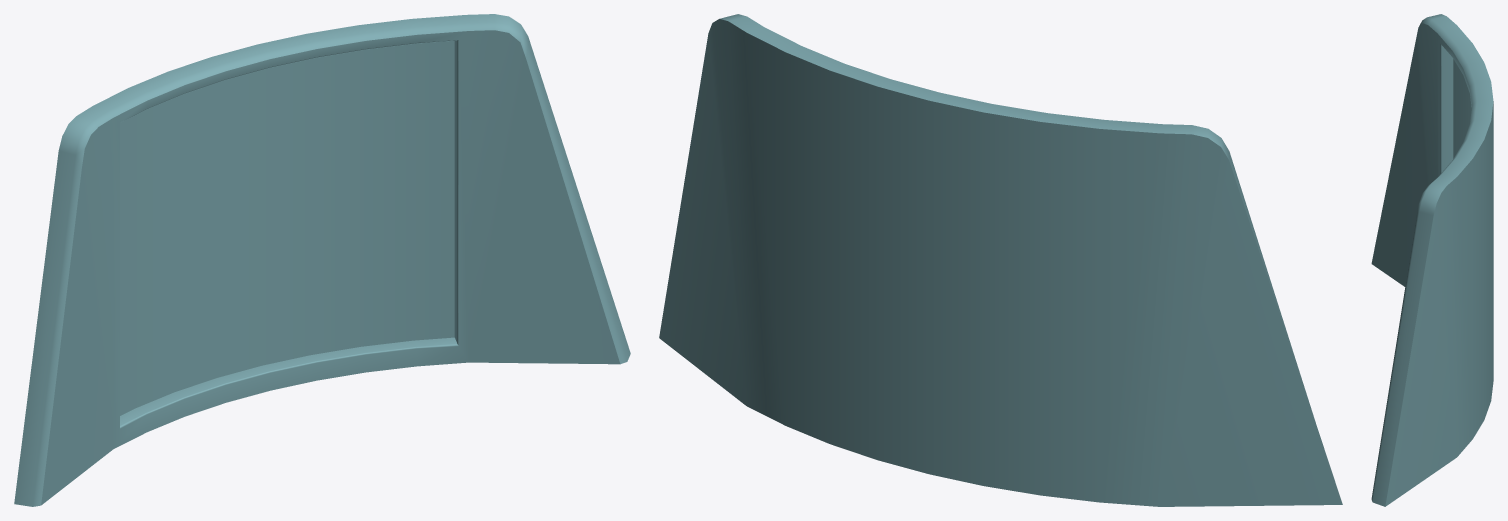
Rendered from panel_galaxy_screen.fbx.
3 views of the same model, side by side, from view 1: azimuth 30°, elevation 25°; view 2: azimuth 150°, elevation 25°; view 3: azimuth 270°, elevation 25° (orthographic). The views are drawn at different scales.
Visible parts, largest first — view 1: panel_galaxy_screen; view 2: panel_galaxy_screen; view 3: panel_galaxy_screen.
Part boxes in pixels (<box>): panel_galaxy_screen: <box>14,14,630,506</box>; panel_galaxy_screen: <box>659,14,1342,506</box>; panel_galaxy_screen: <box>1371,14,1493,506</box>.
Size of the model in its own units: 575 by 300 by 118.
